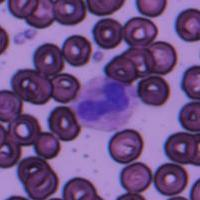N: (70, 75, 138, 131)
